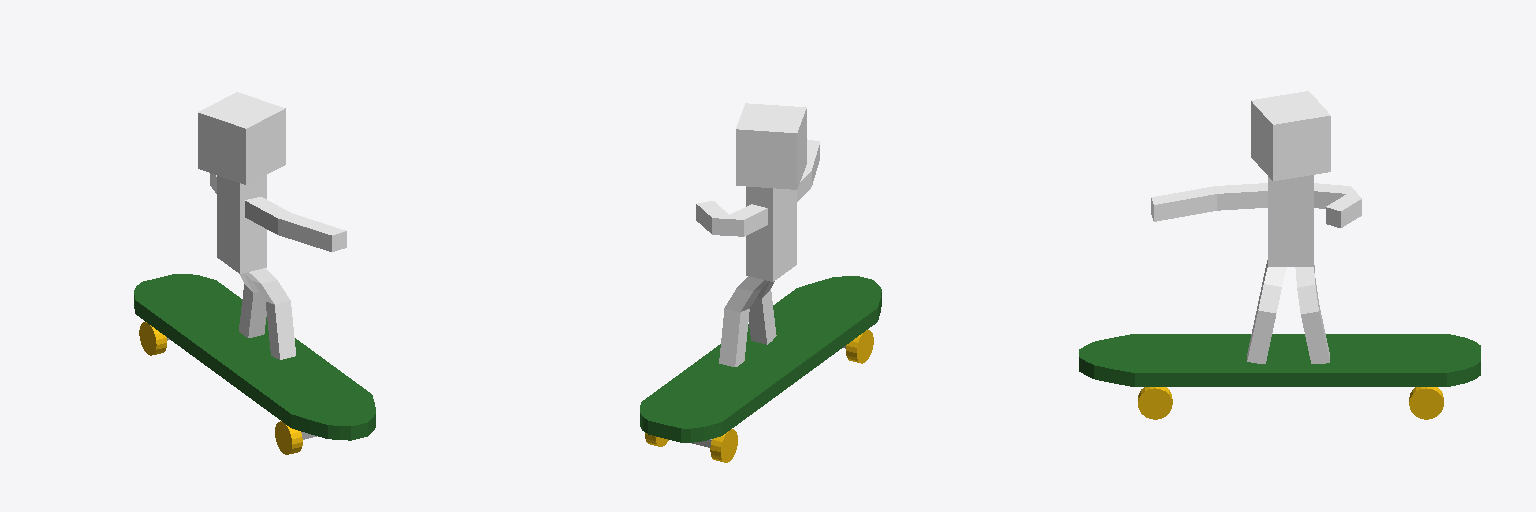
The picture shows the model from 3 angles: view 1: azimuth 30°, elevation 25°; view 2: azimuth 150°, elevation 25°; view 3: azimuth 270°, elevation 25°; orthographic projection.
Parts seen in each view (by area): view 1: pCube1 group3, group4 pCube5, group4 pCube4, group4 pCube6, group4 pCube8, group4 pCube9, group3 group1 pCylinder2, group3 group2 pCylinder2; view 2: pCube1 group3, group4 pCube5, group4 pCube4, group4 pCube9, pCube7 group4, group4 pCube8, group4 pCube6, group3 group2 pCylinder2, group3 group1 pCylinder2; view 3: pCube1 group3, group4 pCube5, group4 pCube4, group4 pCube6, group4 pCube8, group4 pCube9, pCube7 group4, group3 pCylinder1 group1, group3 pCylinder1 group2.
Part boxes in pixels (x1,y1,x2,y2): pCube1 group3: (134, 274, 375, 440); group4 pCube5: (198, 92, 285, 184); group4 pCube4: (217, 175, 266, 273); group4 pCube6: (245, 197, 346, 251); group4 pCube8: (245, 268, 295, 359); group4 pCube9: (239, 273, 266, 337); group3 group1 pCylinder2: (275, 421, 302, 454); group3 group2 pCylinder2: (139, 322, 166, 355); pCube1 group3: (640, 276, 881, 442); group4 pCube5: (736, 103, 806, 189); group4 pCube4: (746, 187, 796, 281); group4 pCube9: (719, 276, 768, 366); pCube7 group4: (696, 201, 767, 236); group4 pCube8: (749, 281, 776, 344); group4 pCube6: (797, 139, 819, 201); group3 group2 pCylinder2: (710, 429, 737, 462); group3 group1 pCylinder2: (846, 330, 873, 363); pCube1 group3: (1079, 334, 1480, 386); group4 pCube5: (1251, 91, 1330, 180); group4 pCube4: (1268, 175, 1313, 266); group4 pCube6: (1151, 183, 1267, 221); group4 pCube8: (1247, 260, 1286, 363); group4 pCube9: (1295, 265, 1329, 363); pCube7 group4: (1314, 183, 1361, 227); group3 pCylinder1 group1: (1138, 387, 1172, 419); group3 pCylinder1 group2: (1409, 387, 1443, 419).
Bounding box in the file's own units: 0.3235 × 1.02 × 1.29.
1 materials, 1 textured.